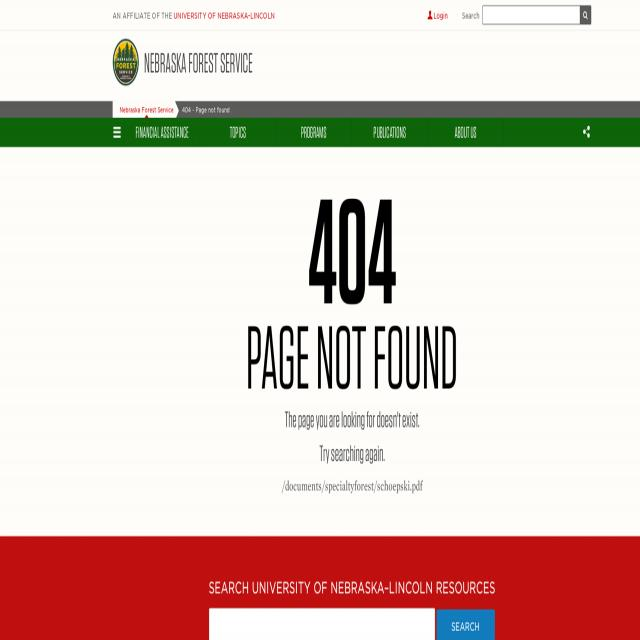button: (144, 46, 252, 79), (124, 118, 200, 147), (200, 118, 276, 147), (276, 118, 351, 147), (352, 118, 427, 147), (428, 118, 503, 147), (436, 609, 494, 640), (113, 38, 139, 86), (113, 102, 179, 119), (428, 0, 448, 30), (580, 118, 594, 146), (113, 118, 121, 148), (580, 5, 591, 24)
field: (210, 608, 435, 640), (483, 7, 580, 24)
